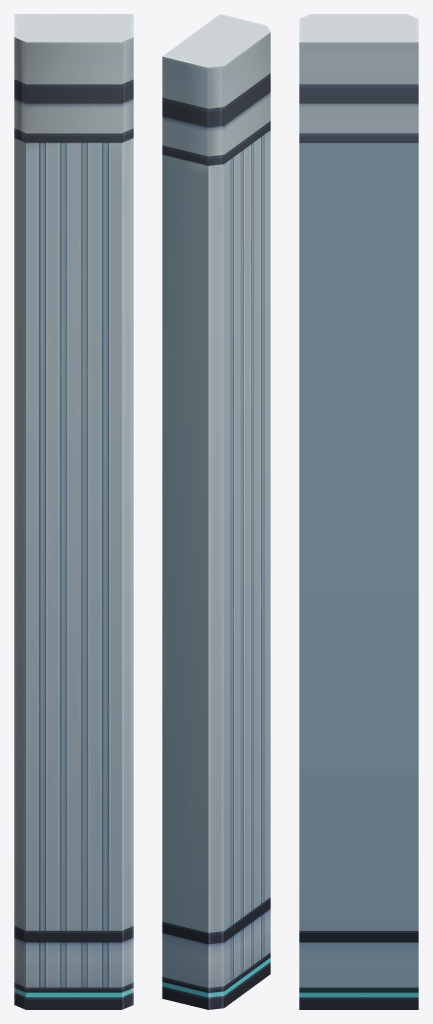
Rendered from my_millenniumlounge_01_wallacc_02.glb.
3 renders of one model, left to right at view 1: azimuth 90°, elevation 25°; view 2: azimuth 150°, elevation 25°; view 3: azimuth 270°, elevation 25°, orthographic. The views are drawn at different scales.
Parts seen in each view (by area): view 1: my_millenniumlounge_01_wallacc_02; view 2: my_millenniumlounge_01_wallacc_02; view 3: my_millenniumlounge_01_wallacc_02.
Part boxes in pixels (<box>): my_millenniumlounge_01_wallacc_02: <box>14,14,133,1009</box>; my_millenniumlounge_01_wallacc_02: <box>162,14,270,1009</box>; my_millenniumlounge_01_wallacc_02: <box>299,14,418,1009</box>.
Bounding box in the file's own units: 0.00282 × 0.0451 × 0.00504.
Materials: 2 (2 with a texture image).
